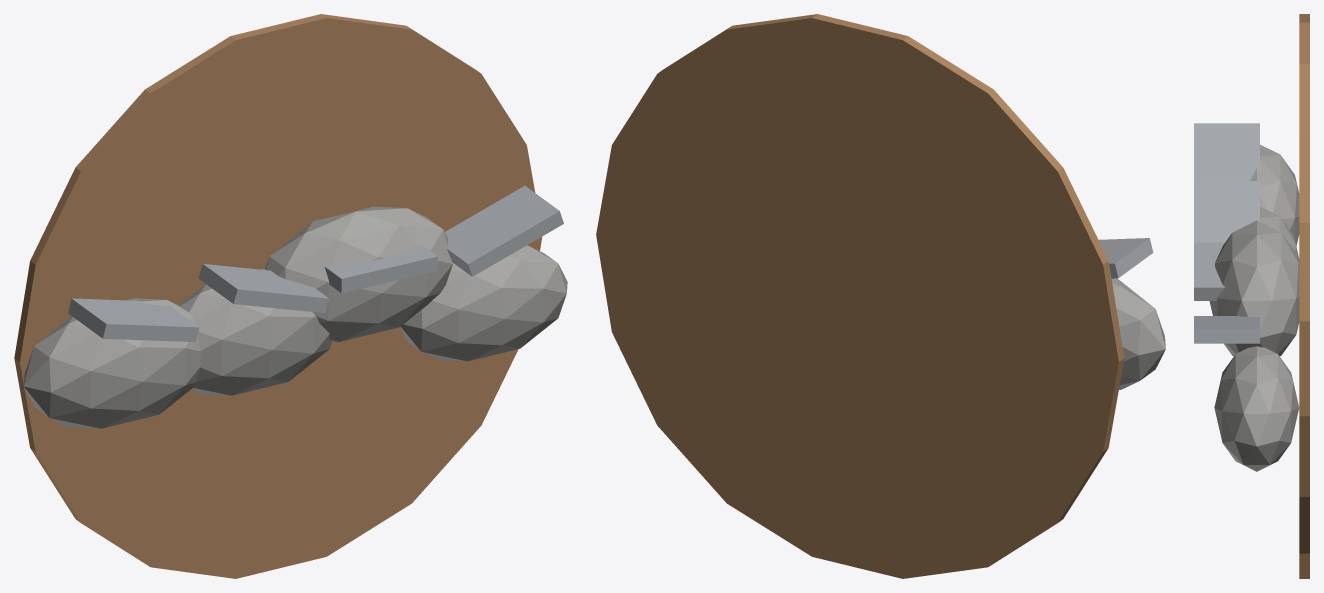
The model's file is 03_ambient_object_cluster.glb.
3 views of the same model, side by side, from view 1: azimuth 30°, elevation 25°; view 2: azimuth 150°, elevation 25°; view 3: azimuth 270°, elevation 25° (orthographic). The views are drawn at different scales.
Visible parts, largest first — view 1: scatter_base, scrap_rock_0, scrap_rock_2, scrap_rock_3, scrap_rock_1, scrap_plate_3, scrap_plate_0, scrap_plate_1, scrap_plate_2; view 2: scatter_base, scrap_rock_0, scrap_plate_0; view 3: scrap_rock_2, scrap_rock_3, scatter_base, scrap_plate_0, scrap_plate_1, scrap_rock_0, scrap_plate_3, scrap_plate_2, scrap_rock_1.
Boxes of the visible parts, box(x1,y1,x2,y2) form: scatter_base: box(14, 14, 542, 578); scrap_rock_0: box(23, 298, 200, 428); scrap_rock_2: box(265, 206, 452, 341); scrap_rock_3: box(400, 245, 567, 361); scrap_rock_1: box(179, 268, 331, 395); scrap_plate_3: box(445, 185, 563, 276); scrap_plate_0: box(68, 298, 199, 341); scrap_plate_1: box(198, 264, 328, 313); scrap_plate_2: box(324, 244, 437, 293); scatter_base: box(596, 14, 1124, 578); scrap_rock_0: box(1111, 278, 1165, 389); scrap_plate_0: box(1098, 238, 1153, 278); scrap_rock_2: box(1209, 220, 1299, 356); scrap_rock_3: box(1214, 346, 1299, 471); scatter_base: box(1299, 14, 1309, 578); scrap_plate_0: box(1194, 123, 1259, 180); scrap_plate_1: box(1194, 181, 1259, 242); scrap_rock_0: box(1250, 144, 1299, 246); scrap_plate_3: box(1194, 316, 1259, 343); scrap_plate_2: box(1194, 242, 1225, 300); scrap_rock_1: box(1260, 206, 1299, 265).
Bounding box in the file's own units: 1.98 × 1.87 × 0.3875.
